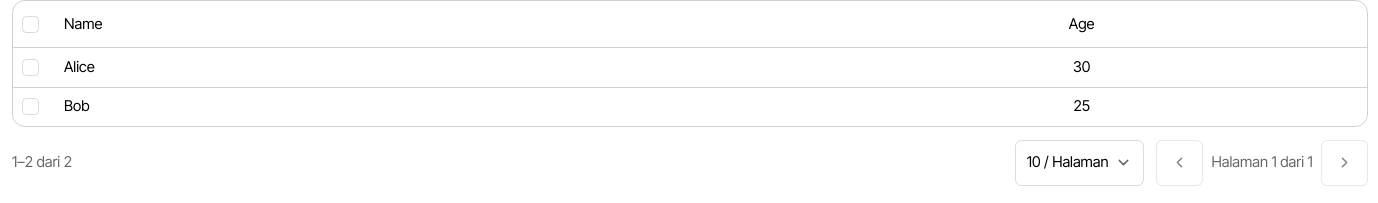
Test: DataTable branches2 › shows selection count when rows are selected
Click the checkbox named "Pilih baris 1": x=30, y=67 left=22, top=59, right=38, bottom=76
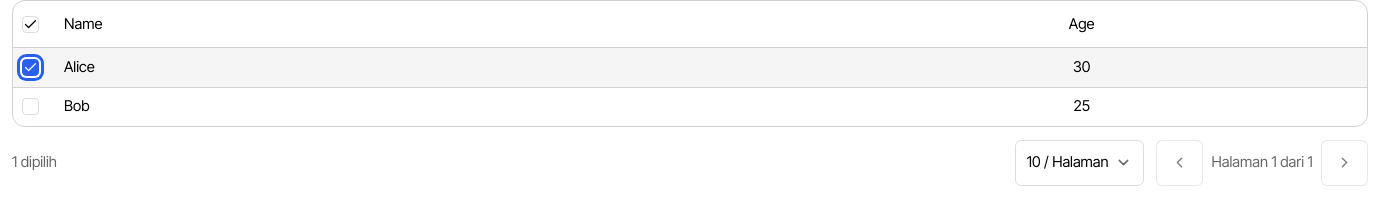
Result: the text "1 dipilih" is shown at left=12, top=152, right=57, bottom=174
